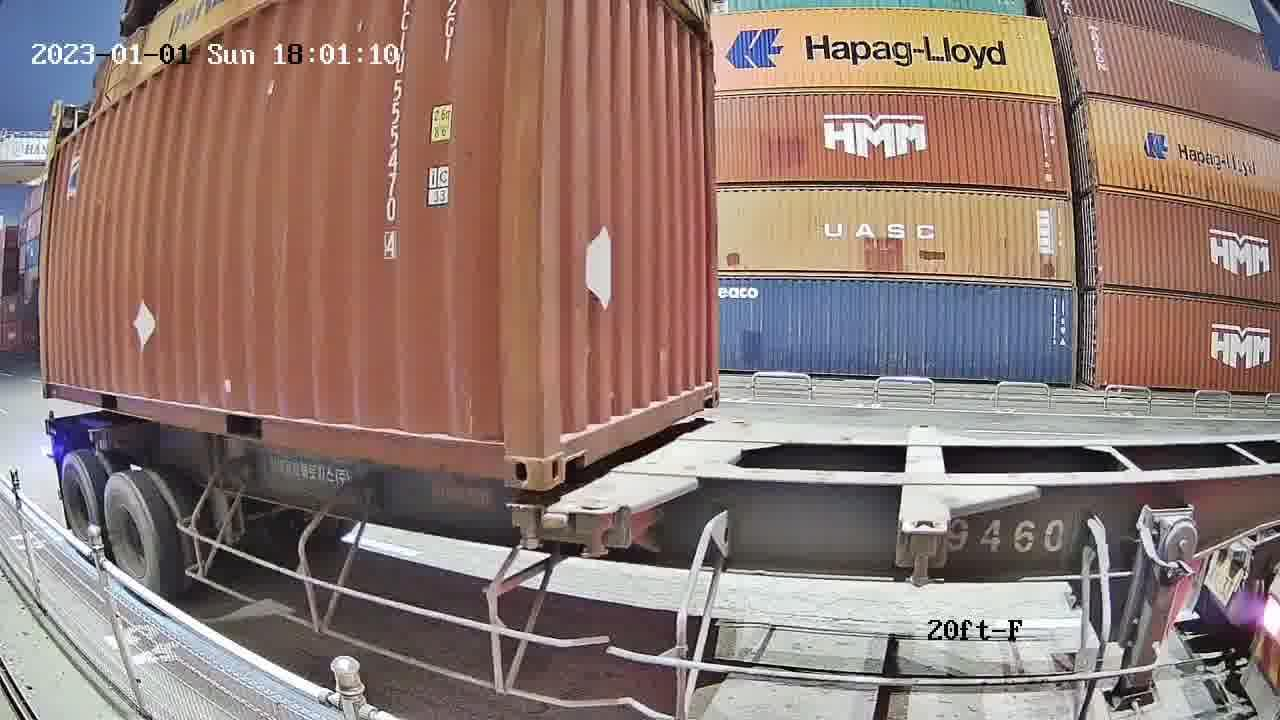Chassis: (575, 418, 745, 512)
Cone: (575, 498, 618, 558), (507, 488, 541, 550)
Hole_L: (538, 401, 590, 494)
Hole_R: (466, 411, 540, 493), (688, 359, 721, 412)
Tire: (101, 473, 161, 598), (59, 456, 101, 555)
